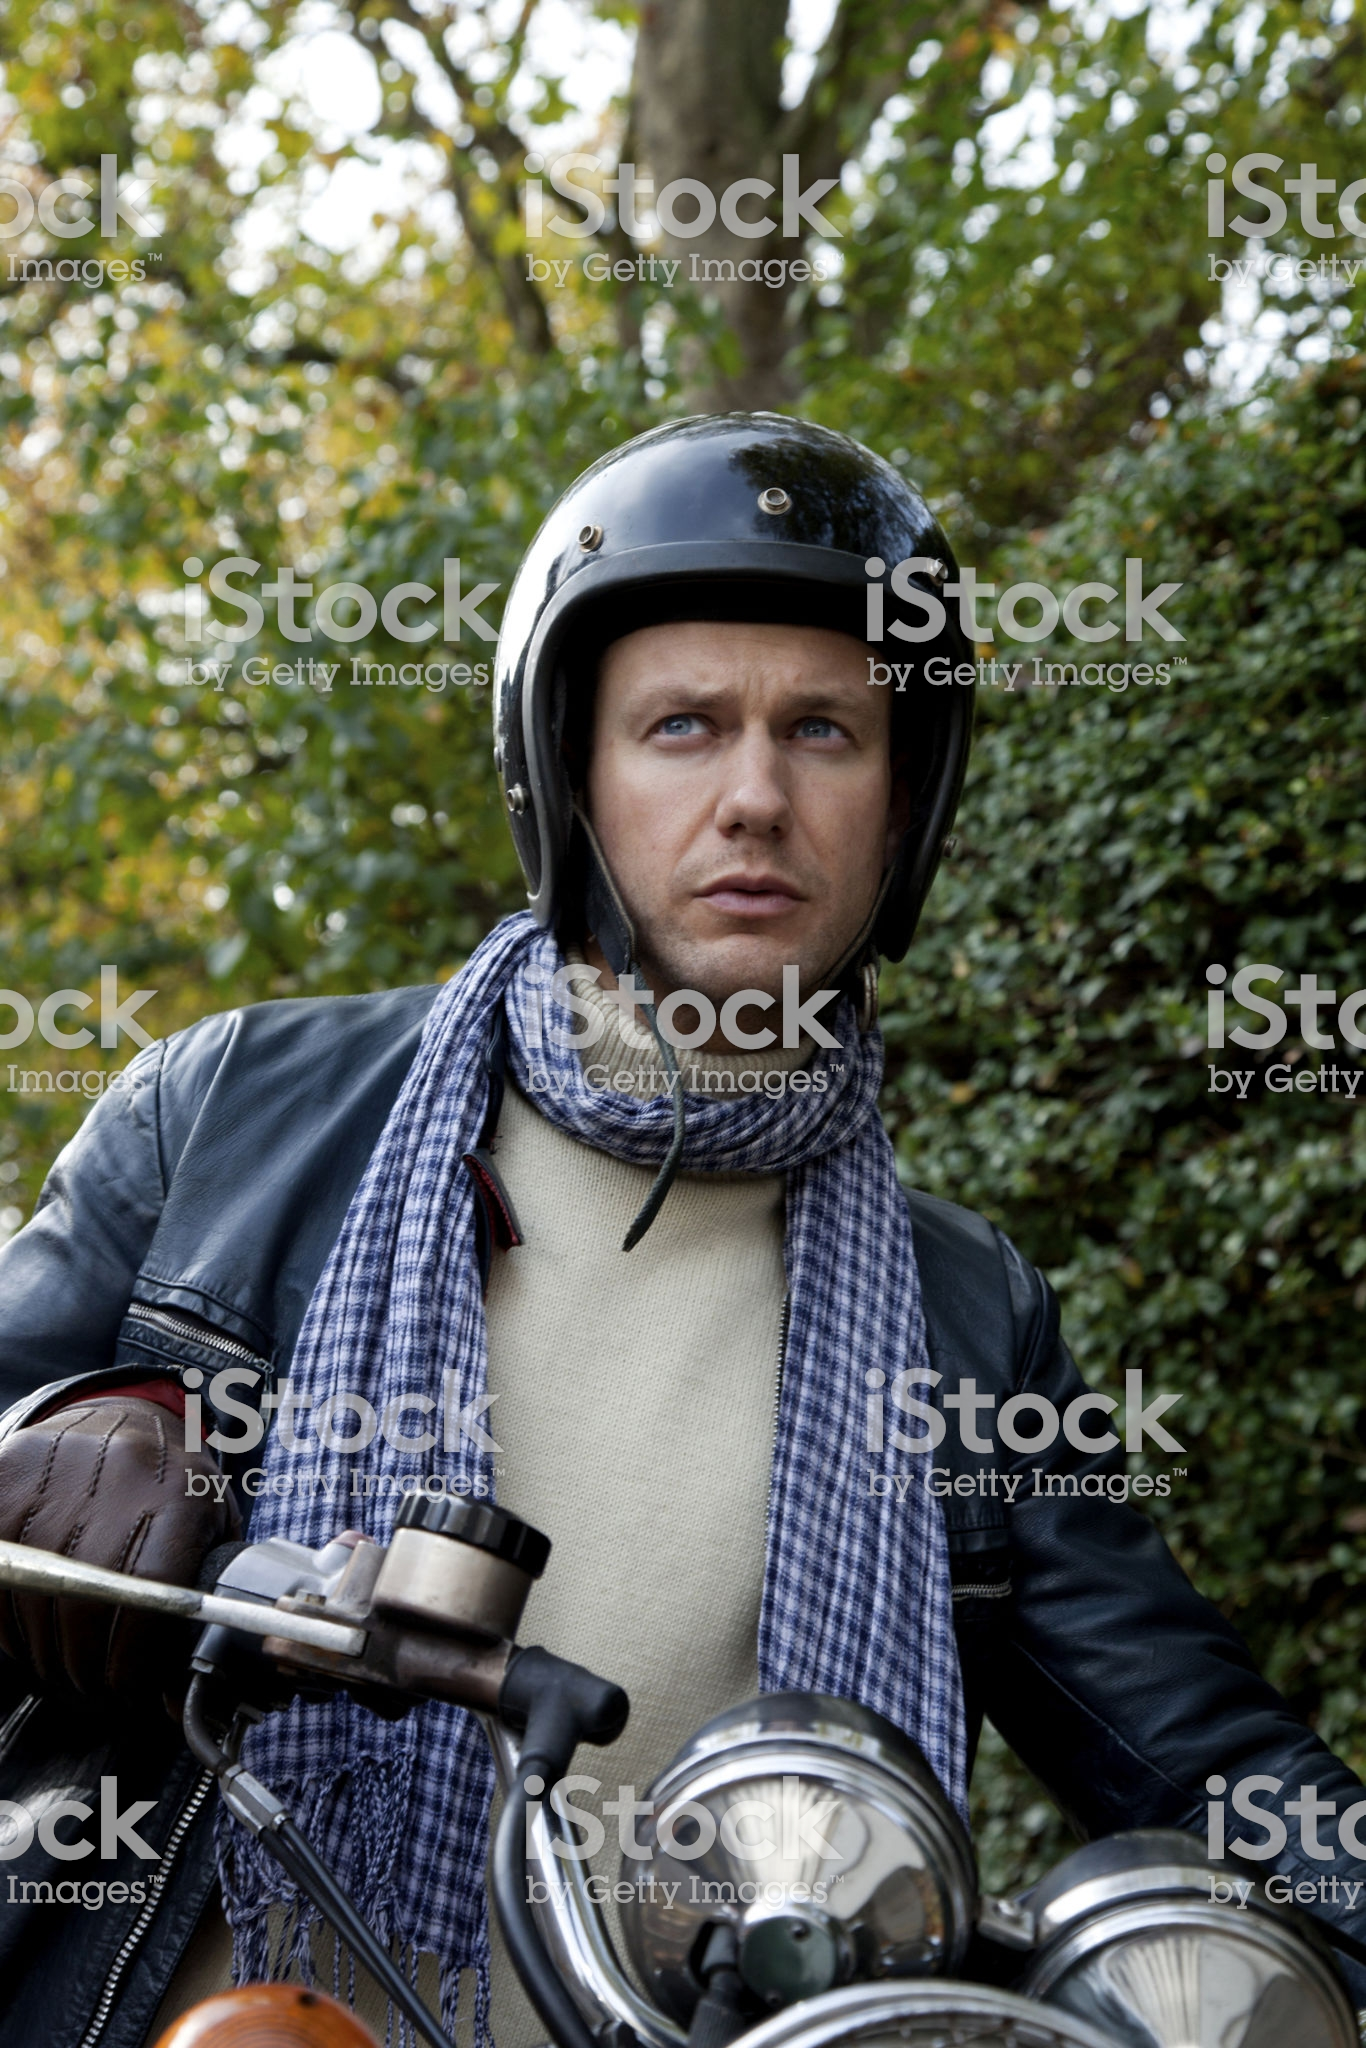helmet: (431, 399, 1026, 969)
